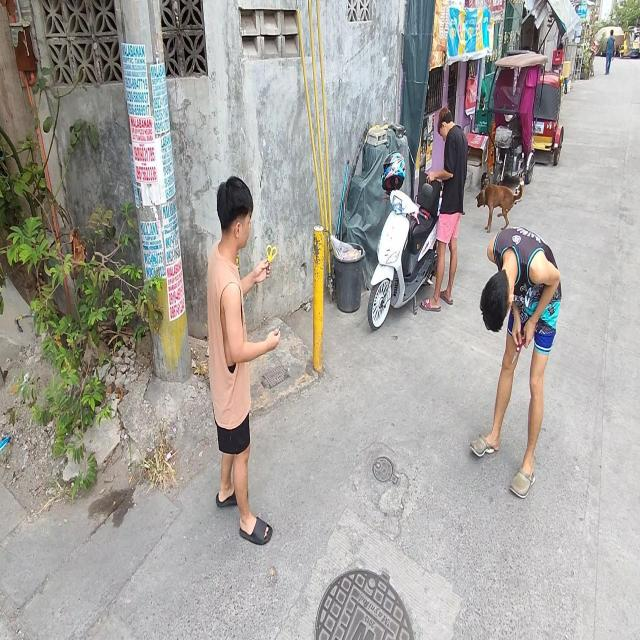scissor: (266, 245, 277, 278), (512, 338, 526, 363)
